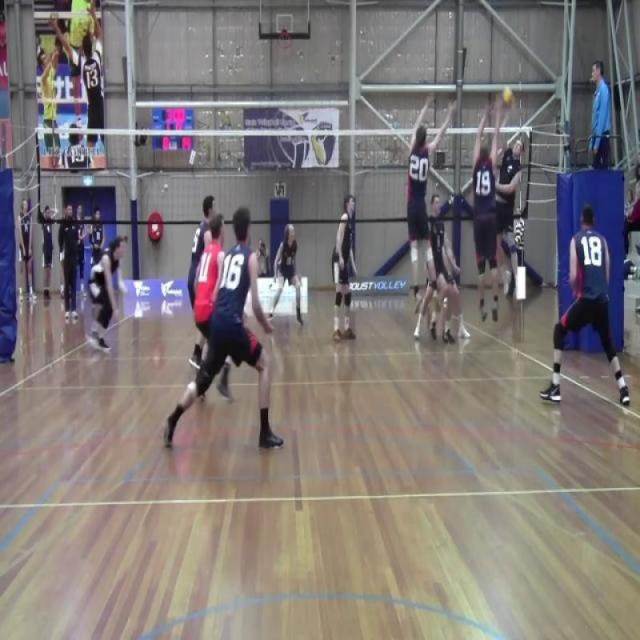volleyball: (500, 85, 515, 110)
